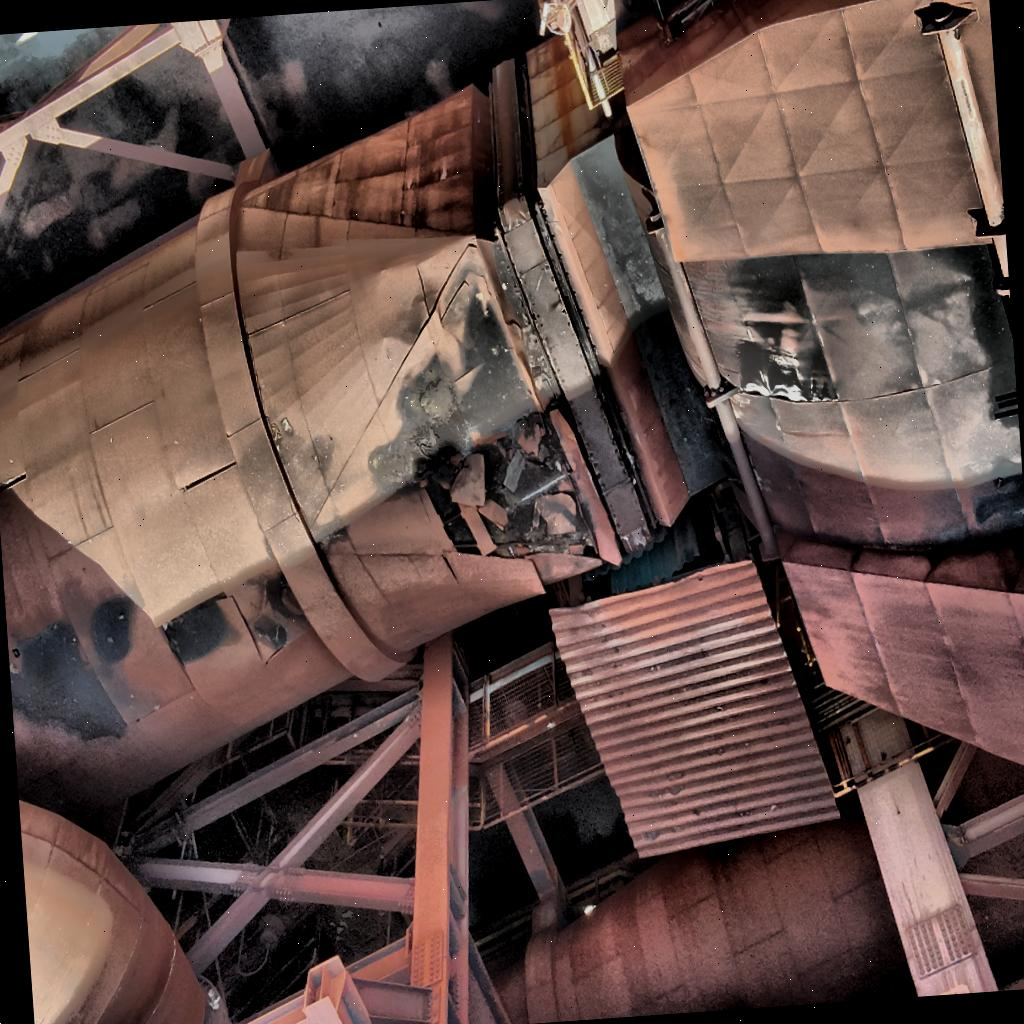Failures: (422, 370, 608, 576), (144, 574, 314, 684), (728, 324, 854, 419)
